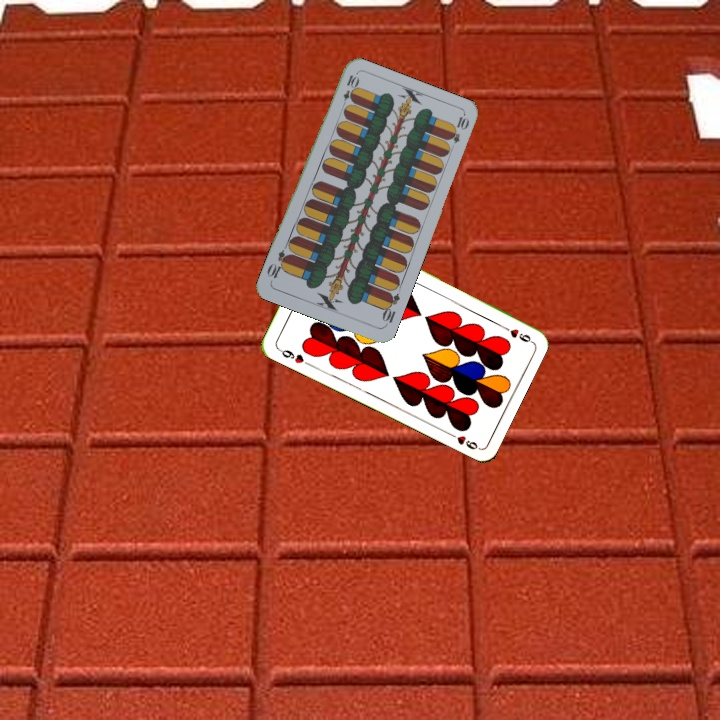E10: (378, 288, 402, 329), (338, 71, 360, 111)
H9: (496, 320, 534, 345), (274, 344, 312, 368)
